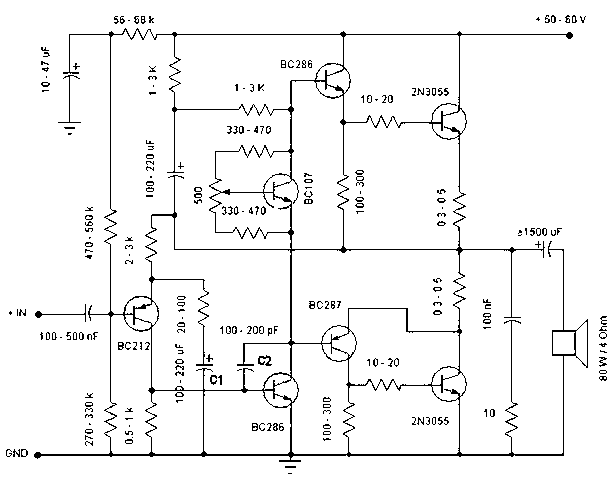C: (60, 62, 87, 94), (500, 312, 531, 332), (192, 354, 218, 377), (79, 299, 98, 324), (232, 358, 261, 372)
Q: (425, 96, 483, 146), (120, 291, 168, 340), (316, 319, 363, 367), (422, 360, 472, 405), (313, 56, 356, 104), (262, 170, 305, 213)
R: (161, 47, 194, 101), (94, 198, 125, 252), (360, 373, 411, 398), (451, 181, 476, 229), (445, 267, 471, 313), (225, 218, 270, 243), (193, 286, 218, 329)
